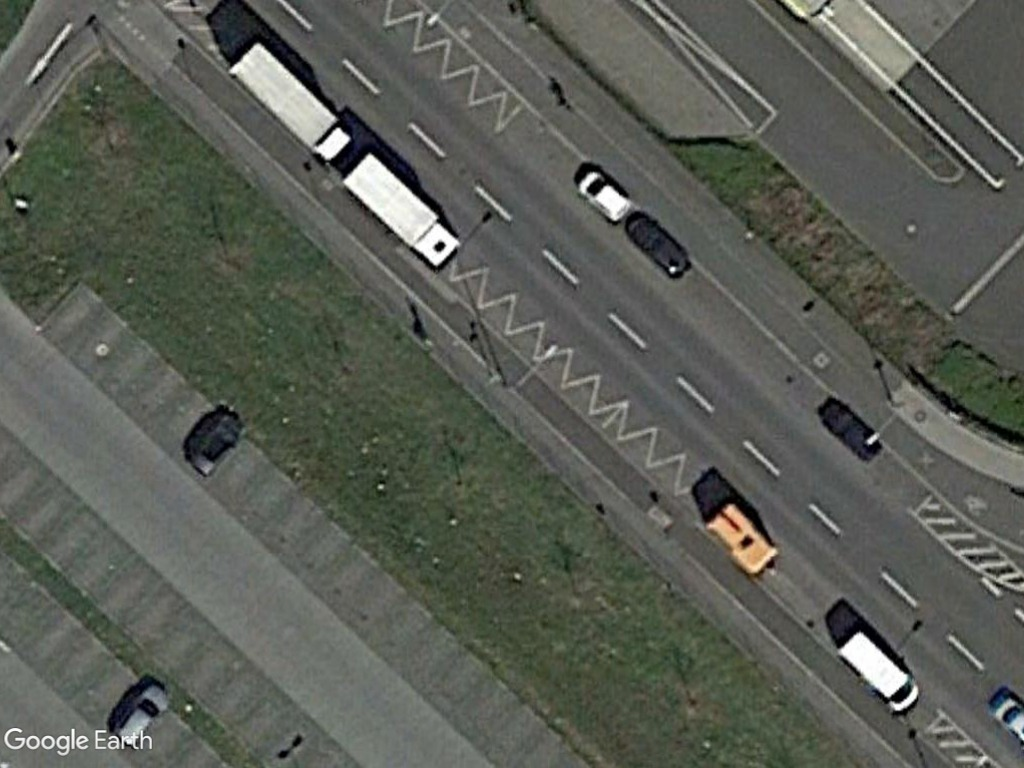car: (107, 686, 174, 749), (574, 162, 635, 227)
truck: (230, 31, 356, 169), (336, 151, 463, 269)
van: (833, 620, 923, 721)
